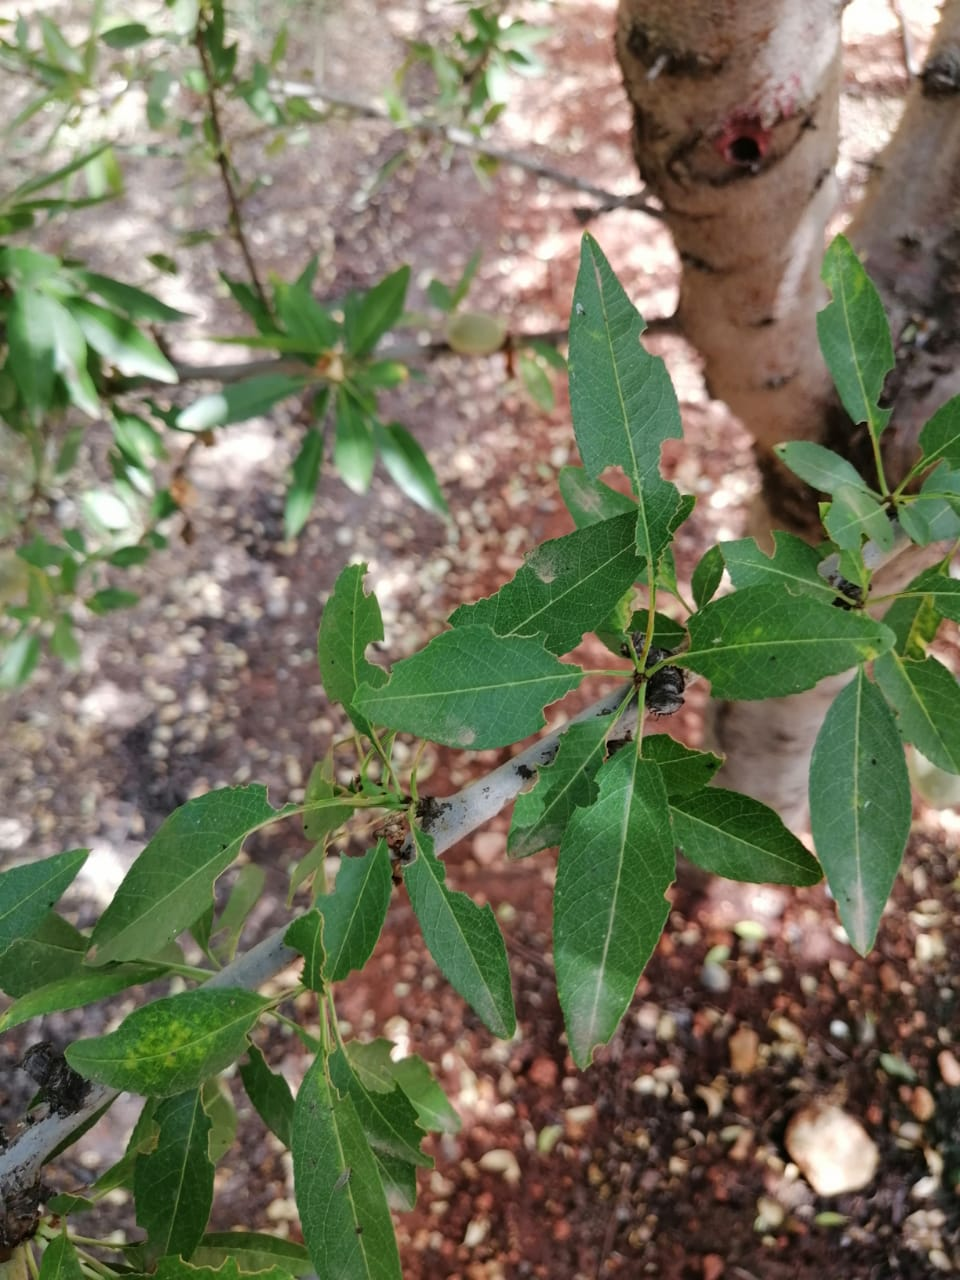othyorinques: (552, 738, 682, 1075), (80, 781, 306, 971), (569, 229, 688, 571), (351, 621, 587, 753), (674, 580, 899, 702), (292, 1046, 407, 1280), (399, 819, 519, 1042), (64, 988, 276, 1098), (814, 230, 896, 447), (315, 560, 390, 737), (314, 829, 398, 980)
